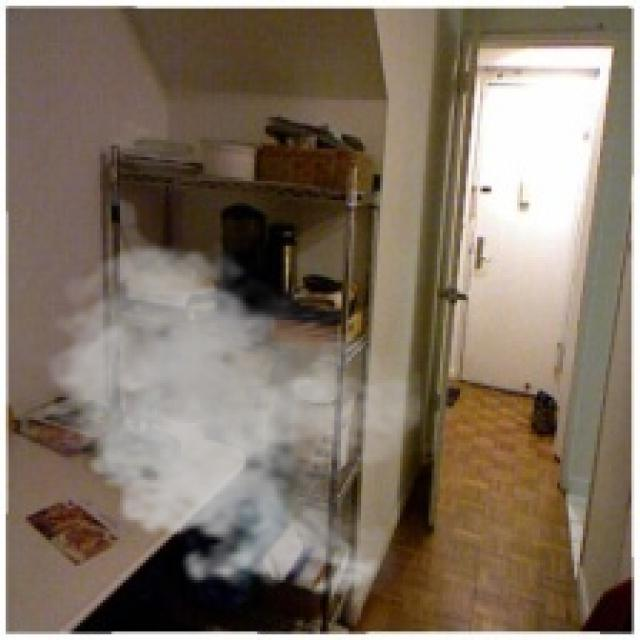smoke: (34, 237, 426, 609)
